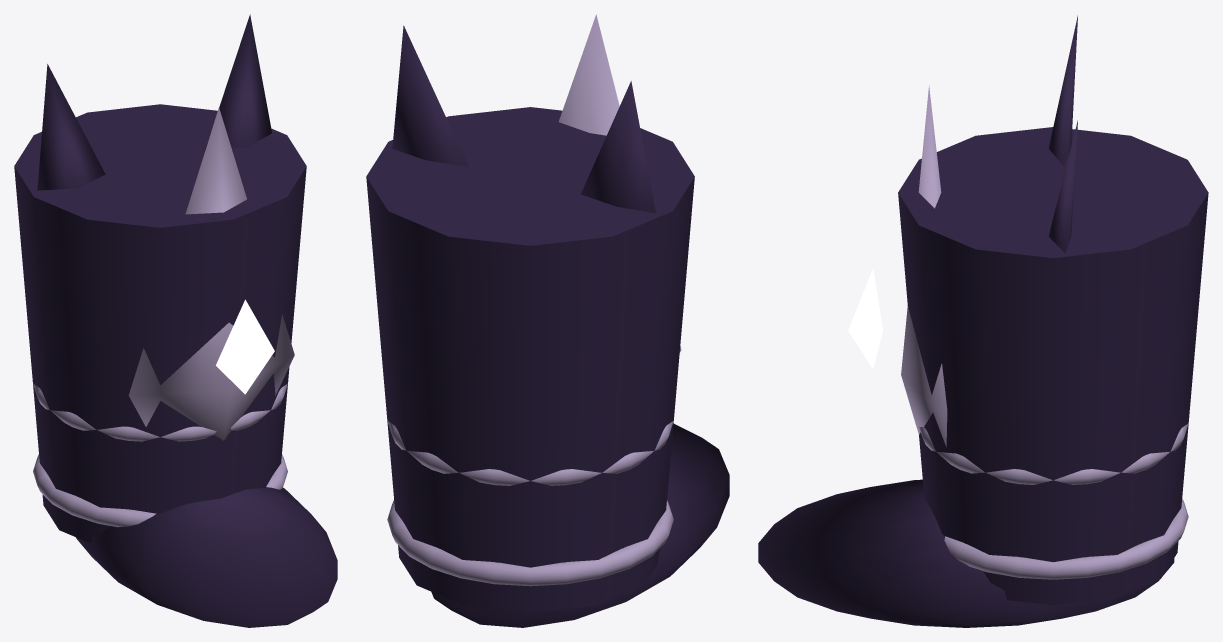
File: boss_wailing_mistress_boots_1.glb
The picture shows the model from 3 angles, left to right: view 1: azimuth 30°, elevation 25°; view 2: azimuth 150°, elevation 25°; view 3: azimuth 270°, elevation 25°; orthographic projection. The views are drawn at different scales.
Visible parts, largest first — view 1: Boss_wailing_mistress_0, Boss_wailing_mistress_1, Boss_wailing_mistress_2; view 2: Boss_wailing_mistress_0, Boss_wailing_mistress_1; view 3: Boss_wailing_mistress_0, Boss_wailing_mistress_1, Boss_wailing_mistress_2.
Part boxes in pixels (bbox=[...]): Boss_wailing_mistress_0: bbox=[14, 14, 337, 627]; Boss_wailing_mistress_1: bbox=[33, 108, 294, 527]; Boss_wailing_mistress_2: bbox=[216, 299, 274, 394]; Boss_wailing_mistress_0: bbox=[366, 25, 729, 627]; Boss_wailing_mistress_1: bbox=[387, 14, 681, 586]; Boss_wailing_mistress_0: bbox=[758, 15, 1208, 627]; Boss_wailing_mistress_1: bbox=[901, 85, 1188, 579]; Boss_wailing_mistress_2: bbox=[848, 268, 883, 368].
Size of the model in its own units: 0.25 by 0.482 by 0.3624.
